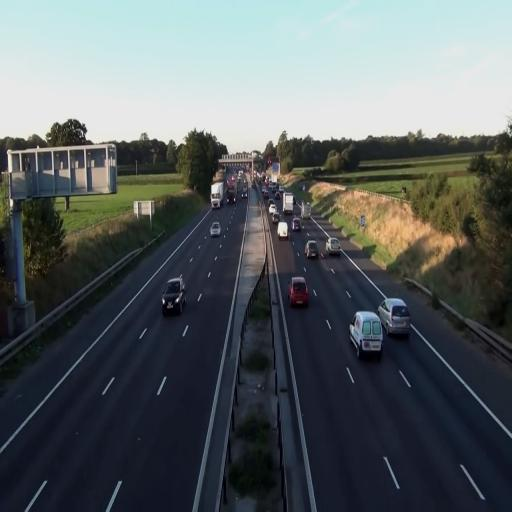vehicle: (348, 311, 384, 359), (378, 297, 410, 337), (161, 277, 186, 315), (289, 276, 309, 308), (225, 168, 237, 205), (304, 238, 320, 260), (210, 180, 222, 208), (277, 220, 289, 240), (210, 222, 221, 237)
